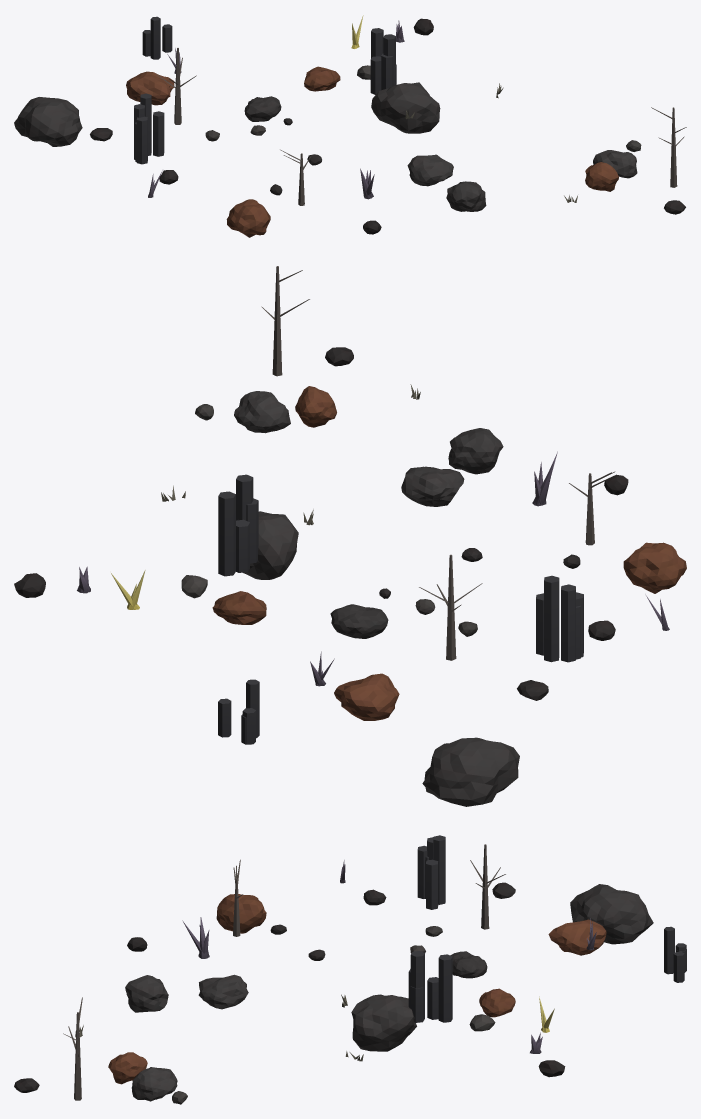
Rendered from ash_land_scatter_c13_29.glb.
The picture shows the model from 3 angles, top to bottom: view 1: azimuth 30°, elevation 25°; view 2: azimuth 150°, elevation 25°; view 3: azimuth 270°, elevation 25°; orthographic projection. The views are drawn at different scales.
Visible parts, largest first — view 1: ash_land_scatter_c13_29; view 2: ash_land_scatter_c13_29; view 3: ash_land_scatter_c13_29.
Part boxes in pixels (x1,y1,x2,y2): ash_land_scatter_c13_29: (14,15,686,237); ash_land_scatter_c13_29: (14,266,686,806); ash_land_scatter_c13_29: (14,835,686,1104).
Bounding box in the file's own units: 39.01 × 10.66 × 48.64.
